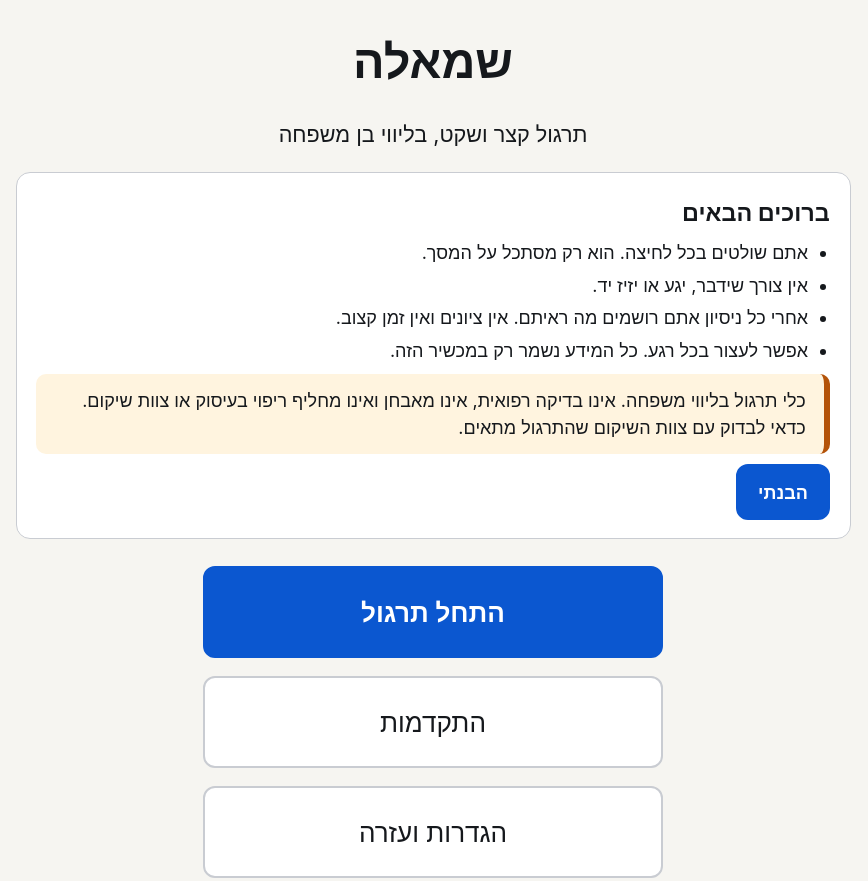
Test: family flow through the UI › settings: Hebrew-only on every section; erase-all works and survives reload
Click the button with test id "home-settings": (433, 832) x1=203 y1=786 x2=663 y2=878
(page scrolled)
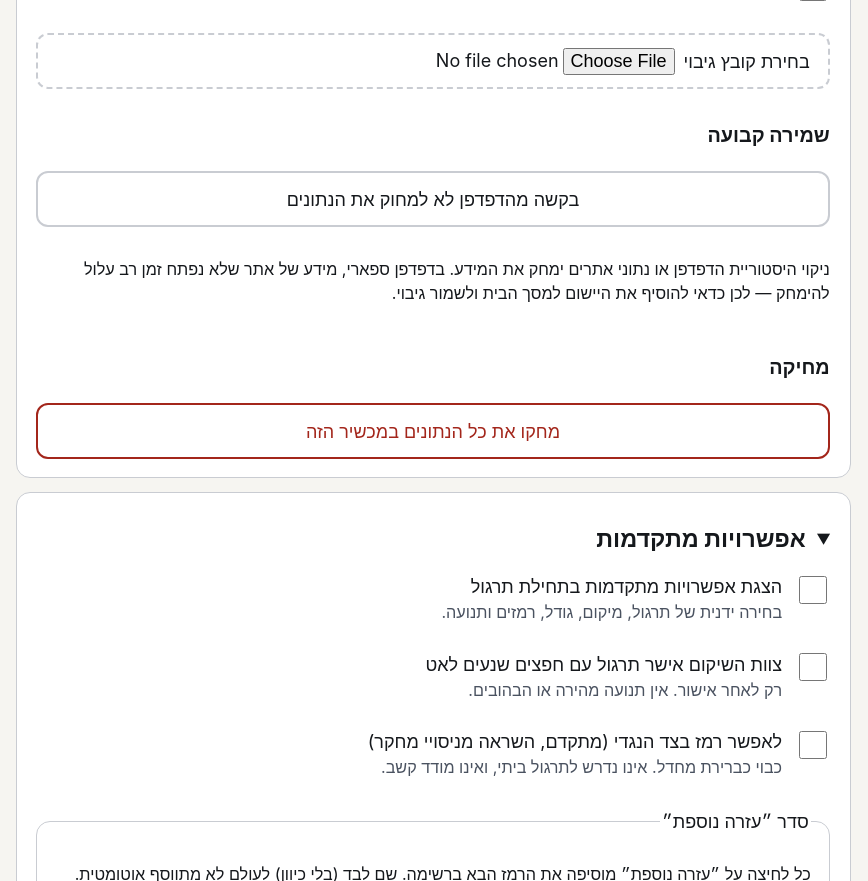
Click the button with test id "erase-all": (433, 431) x1=36 y1=403 x2=830 y2=459
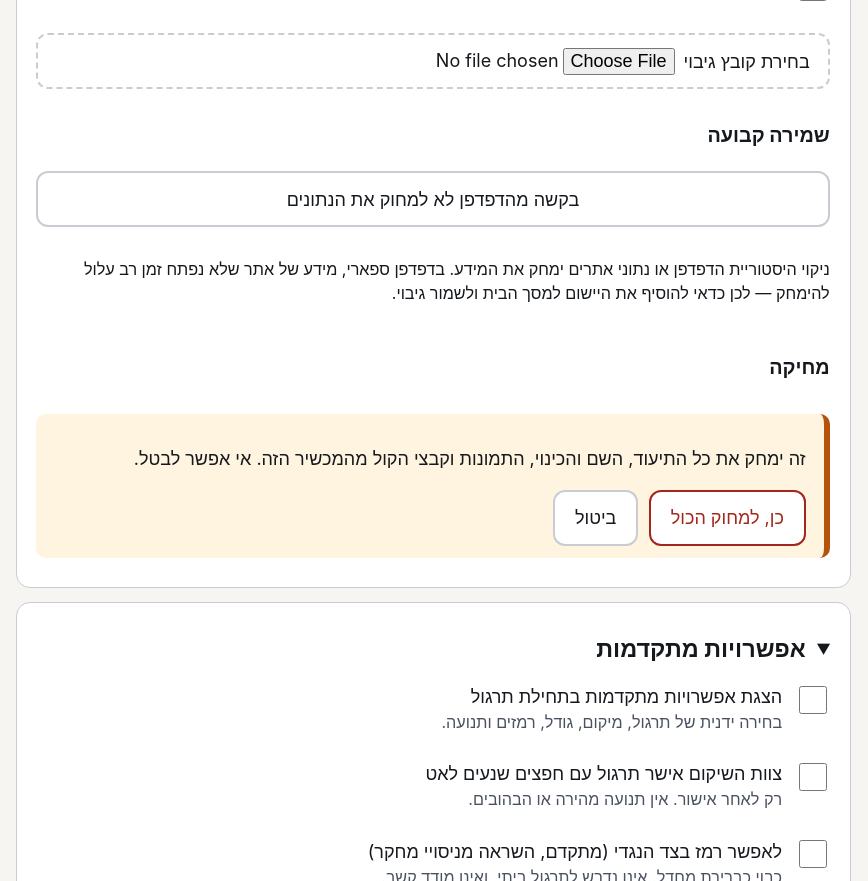
Click the button with test id "erase-confirm": (727, 518) x1=649 y1=490 x2=806 y2=546
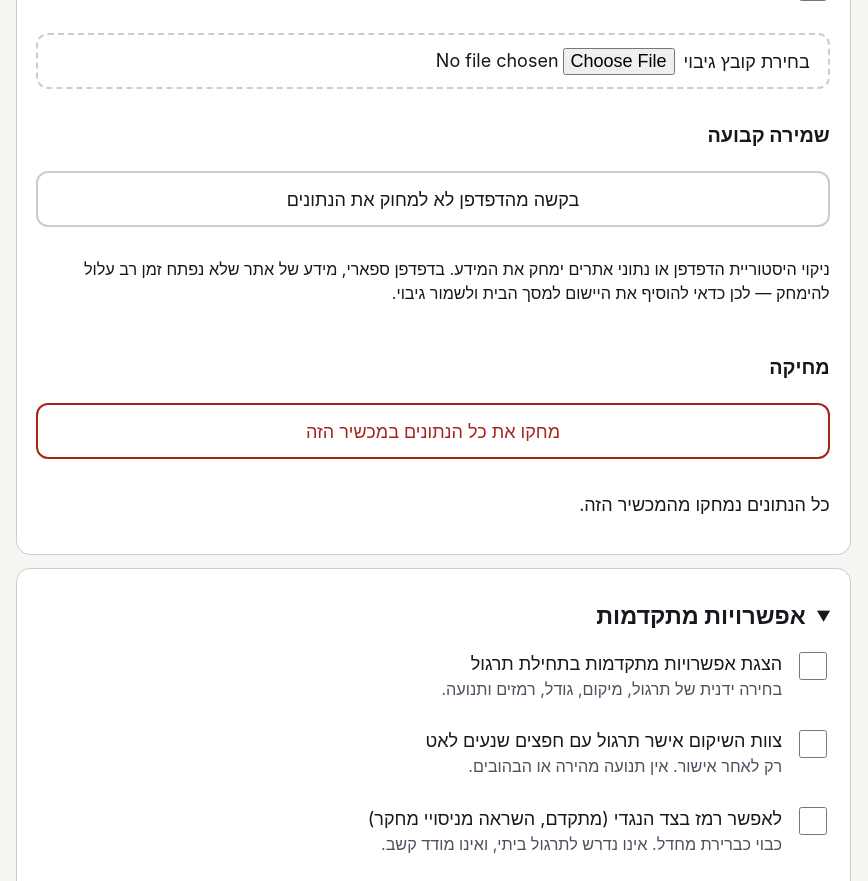
Expected: the message with test id "data-msg" shows "כל הנתונים נמחקו", x1=579 y1=494 x2=830 y2=515
